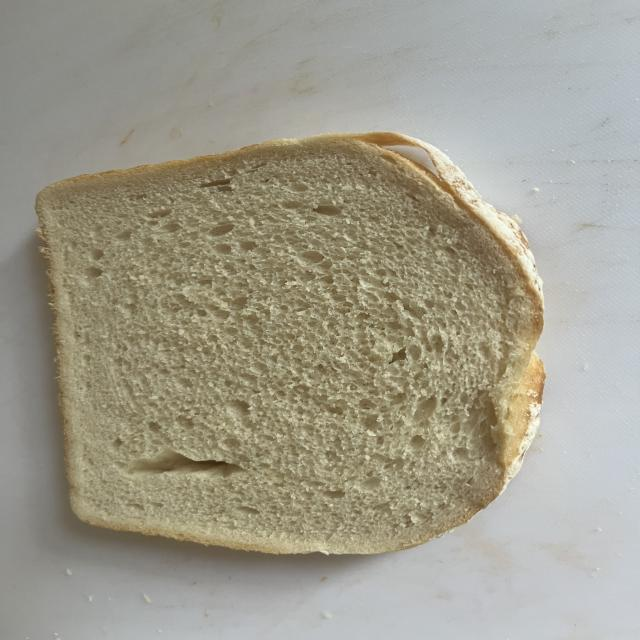sliced_bread: (41, 136, 542, 553)
